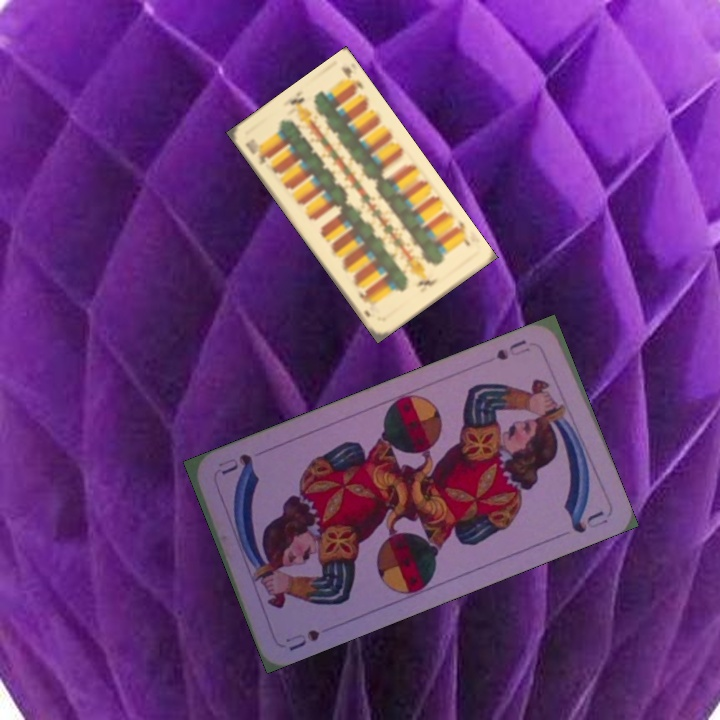E10: (241, 138, 272, 167), (451, 216, 473, 249)
SU: (281, 623, 324, 654), (491, 335, 533, 363)
